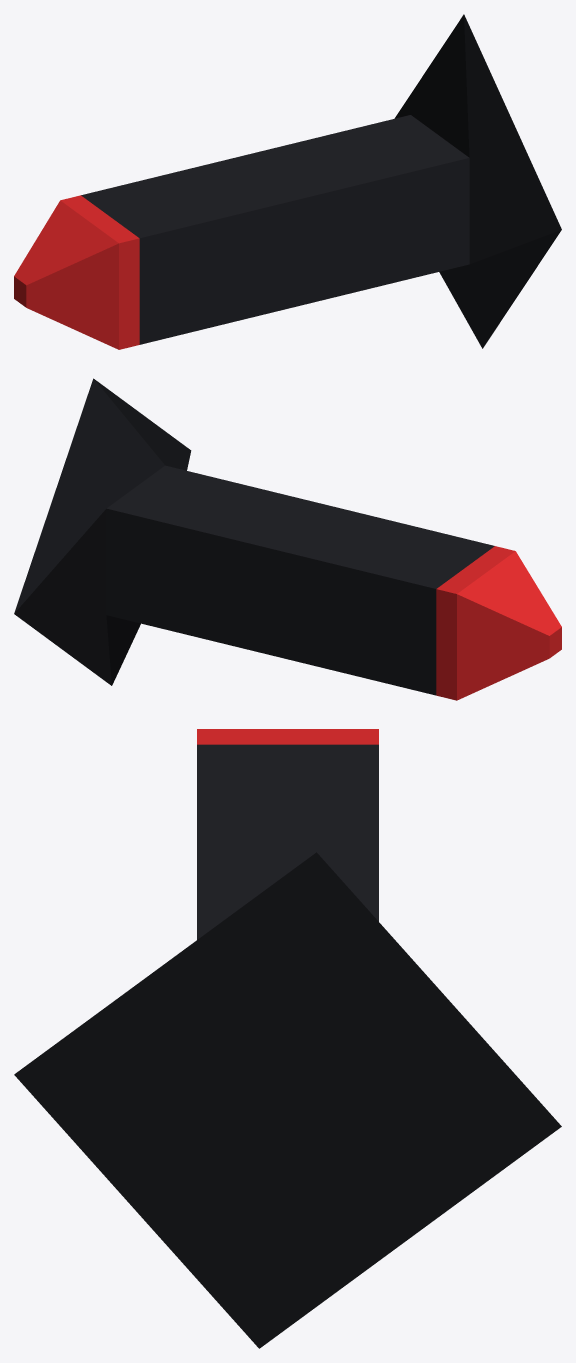
The model's file is projectileLargeRocket.fbx.
3 views of the same model, one above another, from view 1: azimuth 30°, elevation 25°; view 2: azimuth 150°, elevation 25°; view 3: azimuth 270°, elevation 25° (orthographic). The views are drawn at different scales.
Parts seen in each view (by area): view 1: Cube; view 2: Cube; view 3: Cube.
Part boxes in pixels (bbox=[...]): Cube: bbox=[14, 14, 561, 349]; Cube: bbox=[14, 378, 561, 700]; Cube: bbox=[14, 729, 561, 1348].
Size of the model in its own units: 11.84 by 8.03 by 8.03.
Materials: 1 (1 with a texture image).
